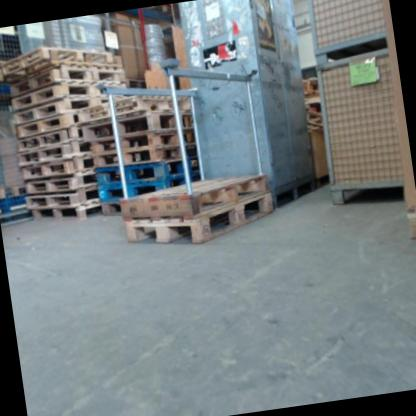pallet: (117, 168, 274, 230), (123, 190, 270, 251), (0, 37, 112, 76), (9, 61, 121, 93), (93, 149, 199, 182), (96, 167, 202, 200), (83, 91, 192, 123), (93, 123, 196, 154), (12, 78, 121, 106), (91, 108, 194, 137), (91, 140, 197, 164), (11, 94, 112, 118), (15, 136, 93, 162), (20, 166, 95, 192), (18, 151, 93, 176), (27, 186, 97, 210), (12, 110, 82, 133), (31, 203, 99, 224), (16, 127, 84, 146), (99, 196, 130, 215), (126, 75, 147, 90)
stillage: (314, 54, 410, 207), (308, 0, 391, 61)
